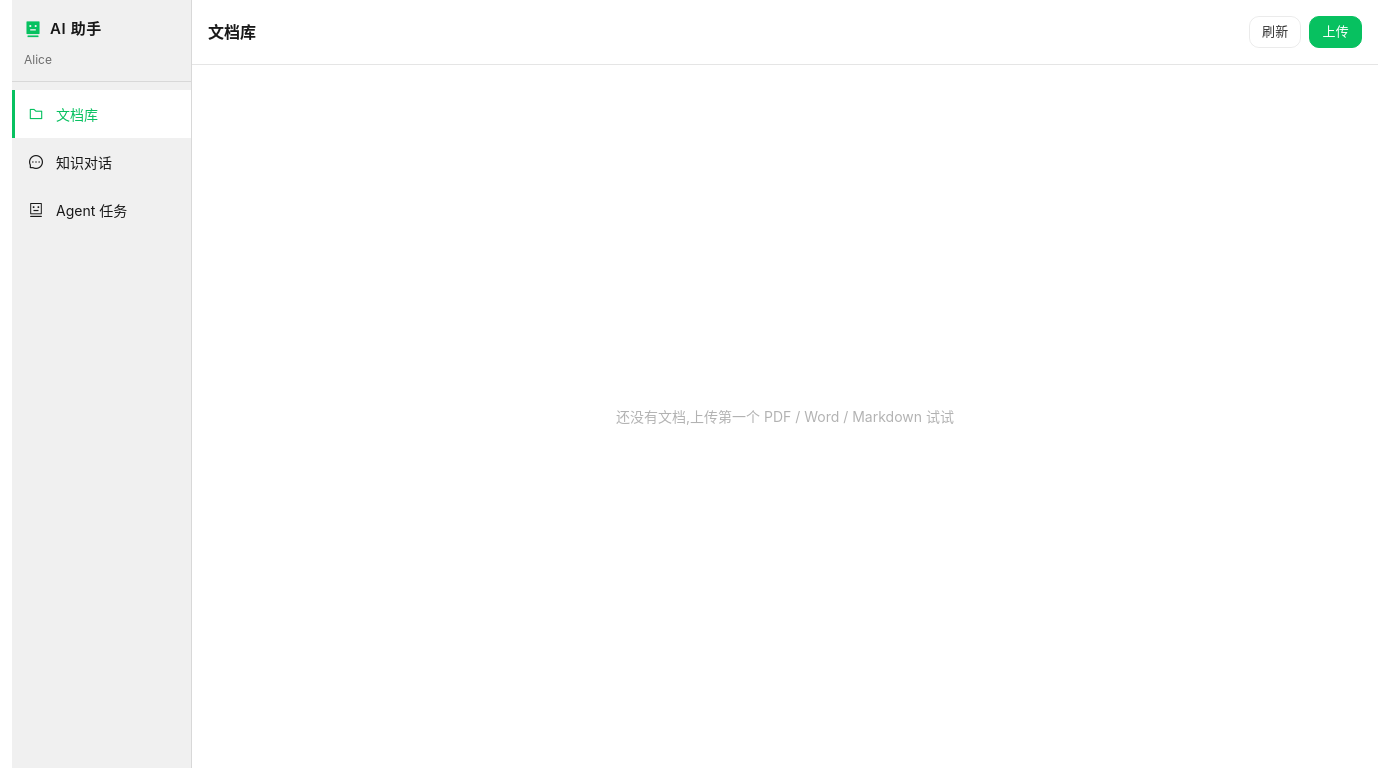
Test case: <AgentView> › 已登录后切到知识对话 tab
The width and height of the screenshot is (1378, 768).
Expected: the text "Alice" is shown, x1=24 y1=51 x2=52 y2=69
Step 1. Click the button "知识对话" → (102, 162), box x1=12 y1=138 x2=191 y2=186
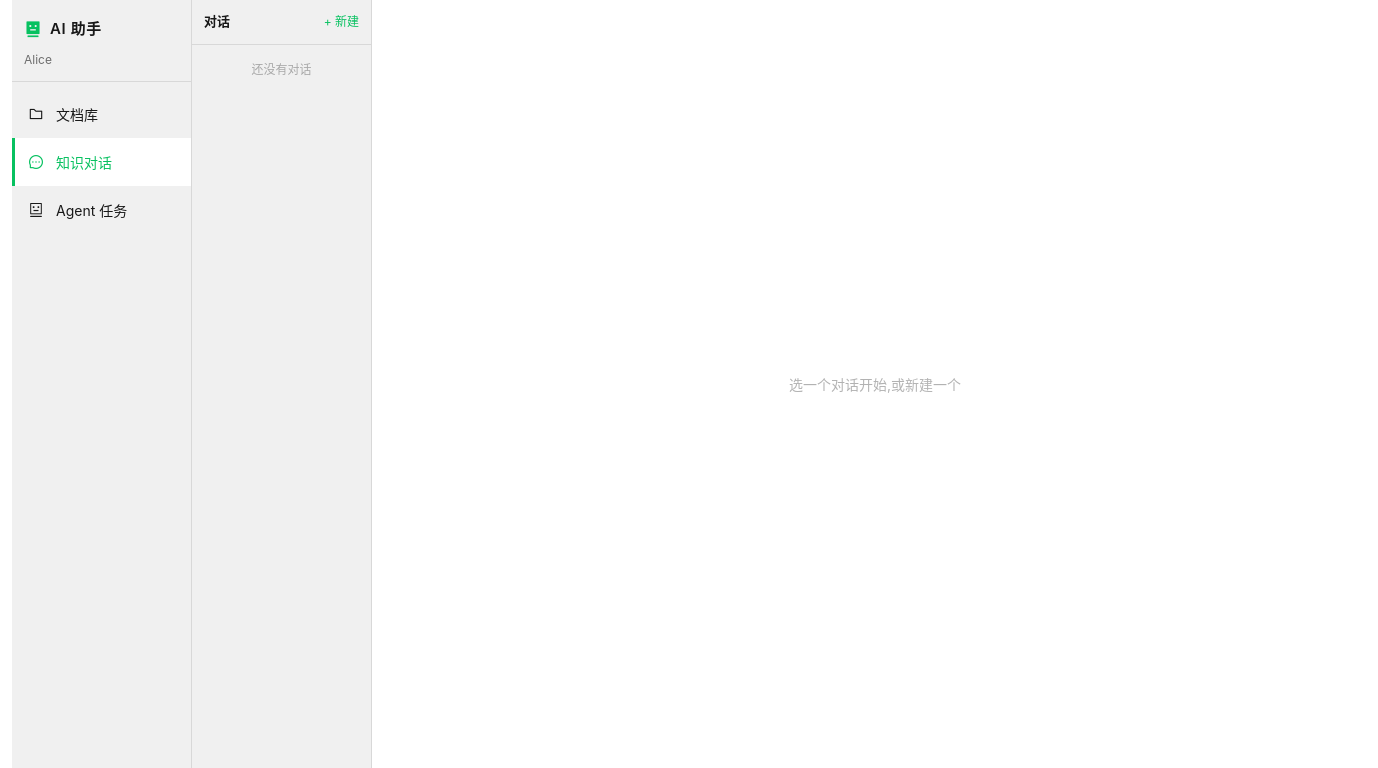
Now the text "选一个对话开始,或新建一个" is shown, box x1=789 y1=376 x2=961 y2=392
